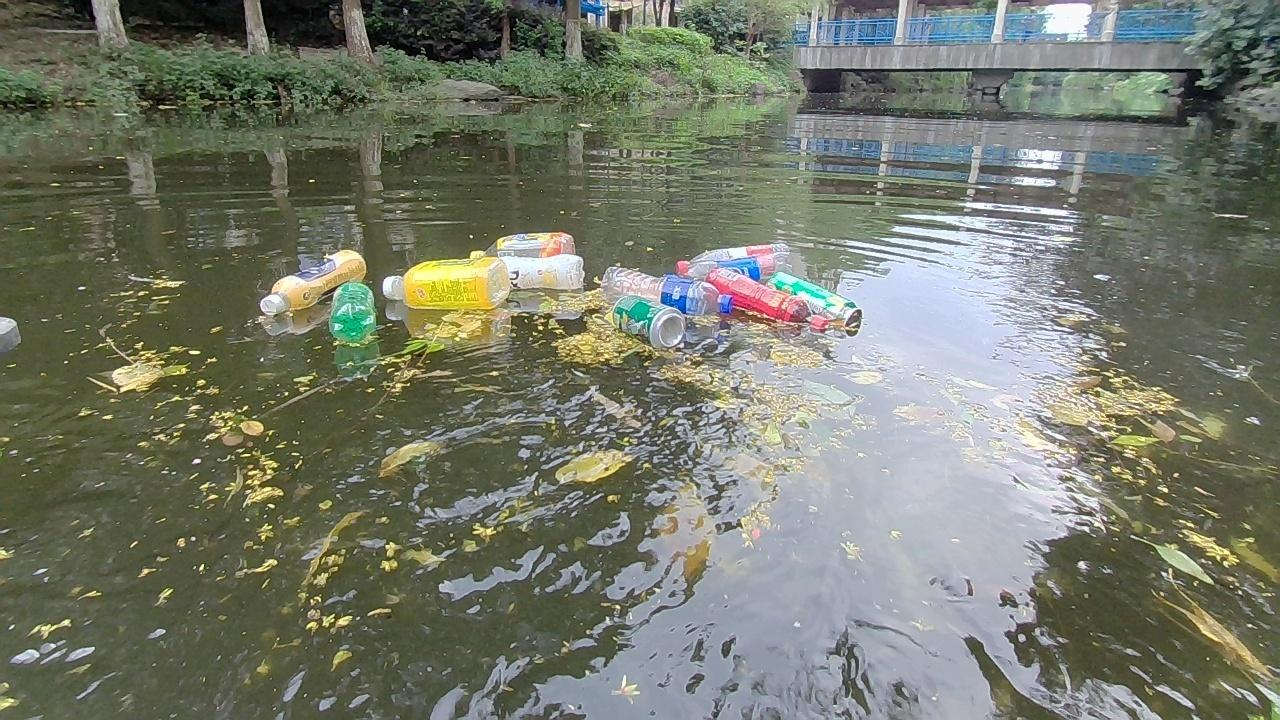bottle: (257, 244, 367, 318), (707, 268, 827, 331), (383, 254, 508, 309), (599, 267, 727, 318), (766, 270, 861, 331), (460, 253, 589, 295), (673, 241, 792, 272), (680, 251, 804, 280), (608, 300, 687, 342), (465, 231, 572, 261), (333, 281, 370, 344)
